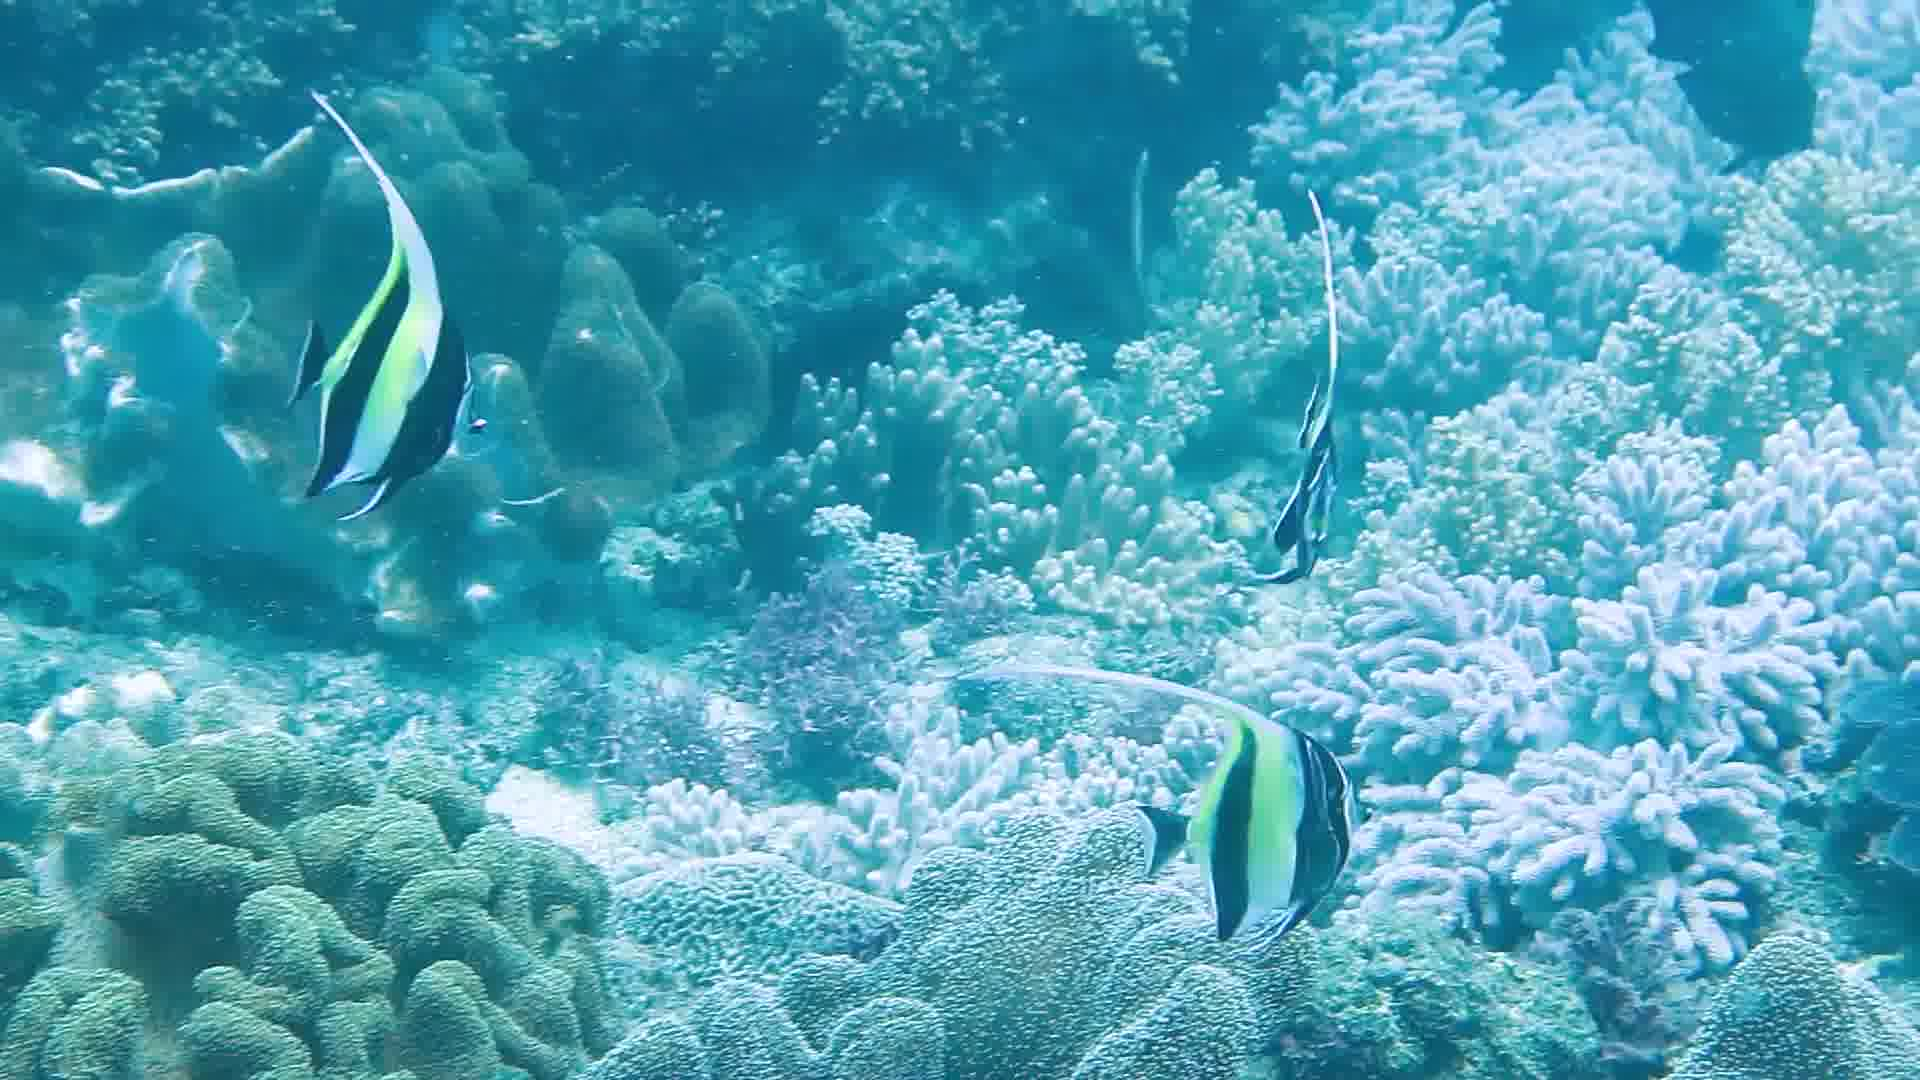Zanclus cornutus: (1113, 684, 1383, 935), (291, 181, 496, 506)
